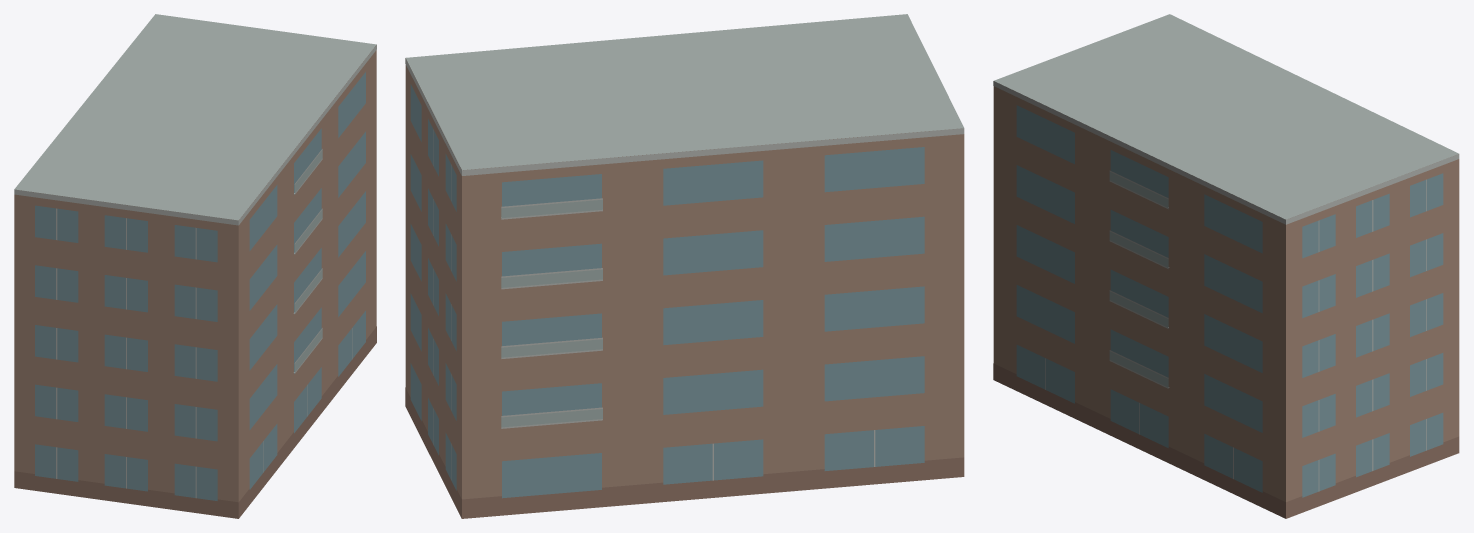
File: survey-upis-33006195.glb
The picture shows the model from 3 angles, left to right: view 1: azimuth 30°, elevation 25°; view 2: azimuth 150°, elevation 25°; view 3: azimuth 270°, elevation 25°; orthographic projection. The views are drawn at different scales.
Parts seen in each view (by area): view 1: survey-upis-33006195.tmp; view 2: survey-upis-33006195.tmp; view 3: survey-upis-33006195.tmp.
Part boxes in pixels (bbox=[...]): survey-upis-33006195.tmp: bbox=[14, 14, 376, 518]; survey-upis-33006195.tmp: bbox=[405, 14, 964, 518]; survey-upis-33006195.tmp: bbox=[993, 14, 1459, 518].
Size of the model in its own units: 21.09 by 14.3 by 20.18.
